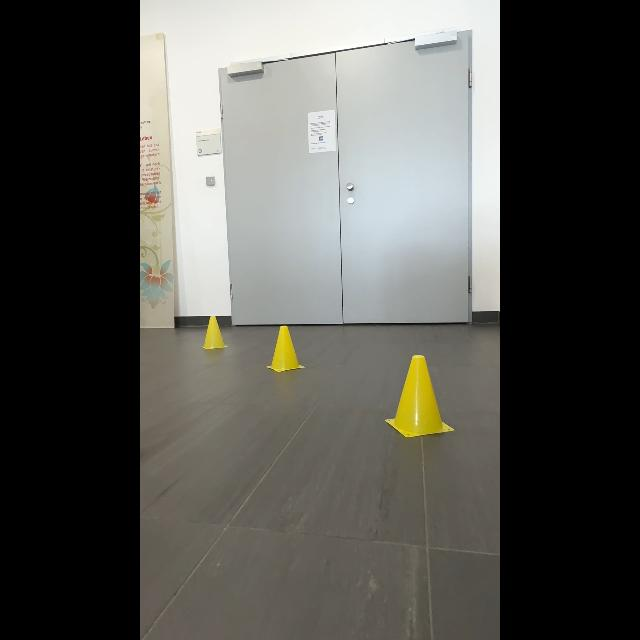yellow_cone: (382, 352, 454, 442), (260, 324, 312, 378), (200, 312, 230, 356)
